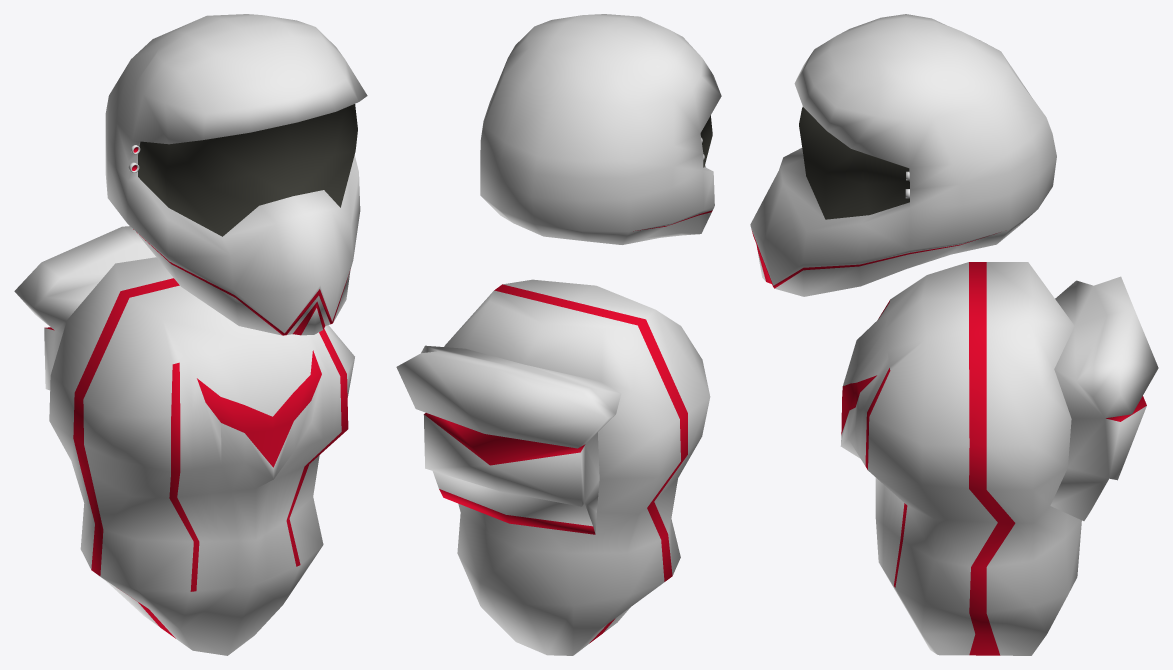
File: player.gltf
3 views of the same model, side by side, from view 1: azimuth 30°, elevation 25°; view 2: azimuth 150°, elevation 25°; view 3: azimuth 270°, elevation 25° (orthographic). The views are drawn at different scales.
Visible parts, largest first — view 1: body, head; view 2: body, head; view 3: body, head.
Part boxes in pixels (box(x1,y1,x2,y2)): body: box(14, 226, 354, 655); head: box(105, 14, 367, 335); body: box(396, 279, 710, 655); head: box(480, 14, 721, 244); body: box(840, 262, 1158, 655); head: box(750, 14, 1056, 296).
Bounding box in the file's own units: 0.5099 × 1.24 × 0.7437.
